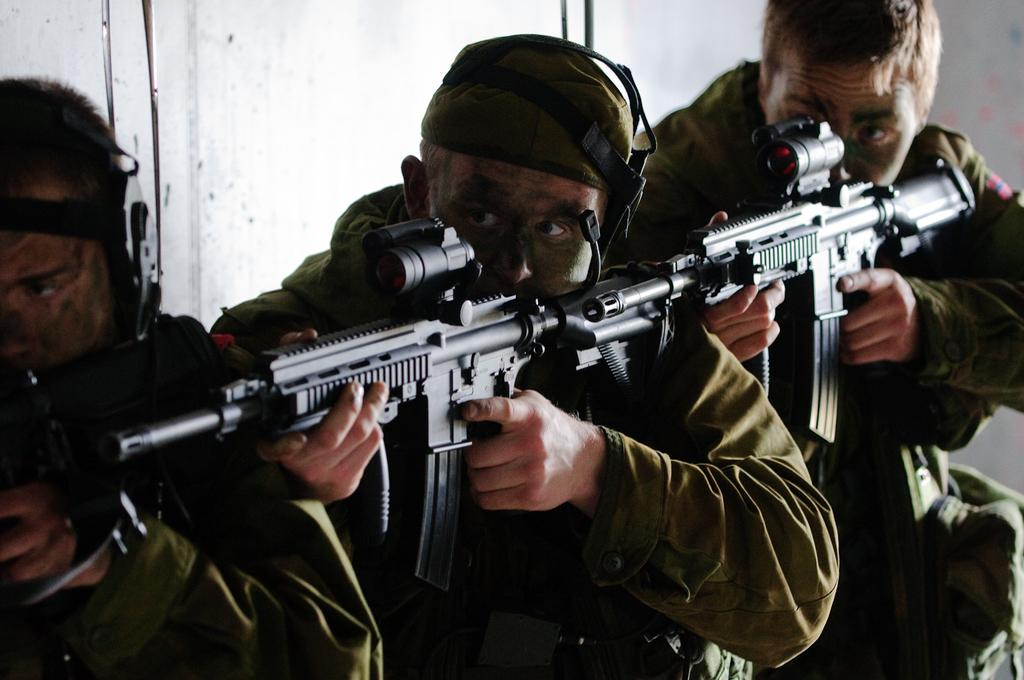Rifle: (106, 199, 976, 589), (695, 109, 980, 449), (1, 351, 188, 560)
